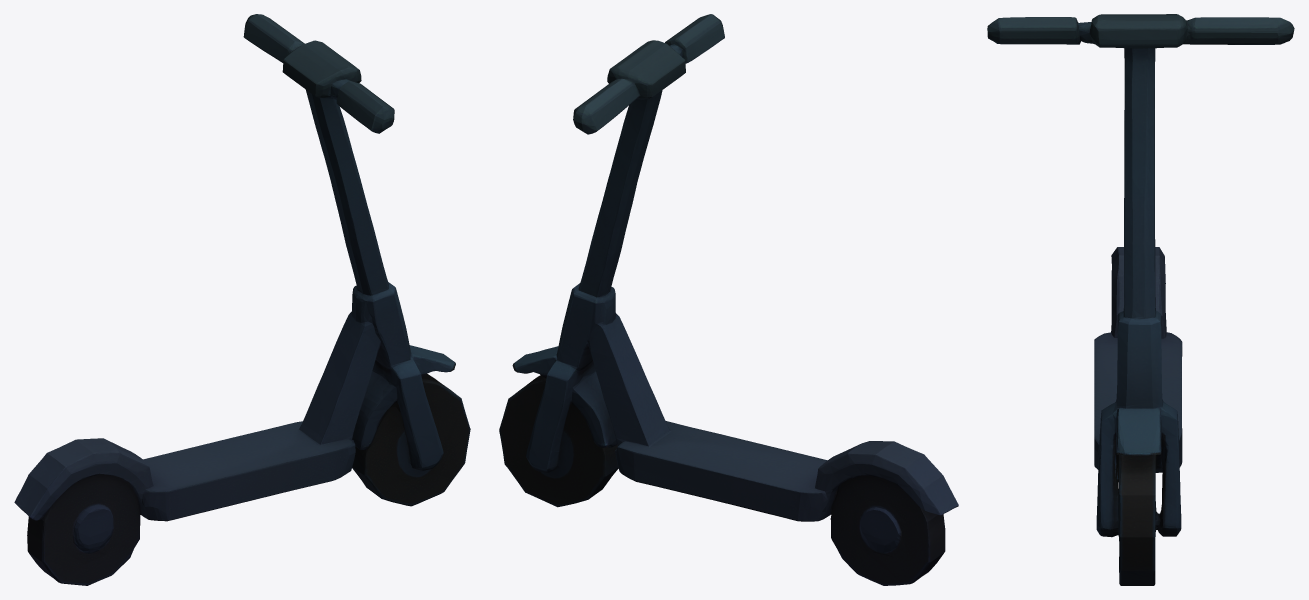
Rendered from kick_scooter.fbx.
3 views of the same model, side by side, from view 1: azimuth 30°, elevation 25°; view 2: azimuth 150°, elevation 25°; view 3: azimuth 270°, elevation 25° (orthographic). The views are drawn at different scales.
Visible parts, largest first — view 1: world; view 2: world; view 3: world.
Part boxes in pixels (x1,y1,x2,y2): world: (14, 14, 470, 585); world: (499, 14, 958, 585); world: (987, 14, 1294, 585).
Size of the model in its own units: 98.52 by 99.13 by 53.34.
Materials: 1 (1 with a texture image).
